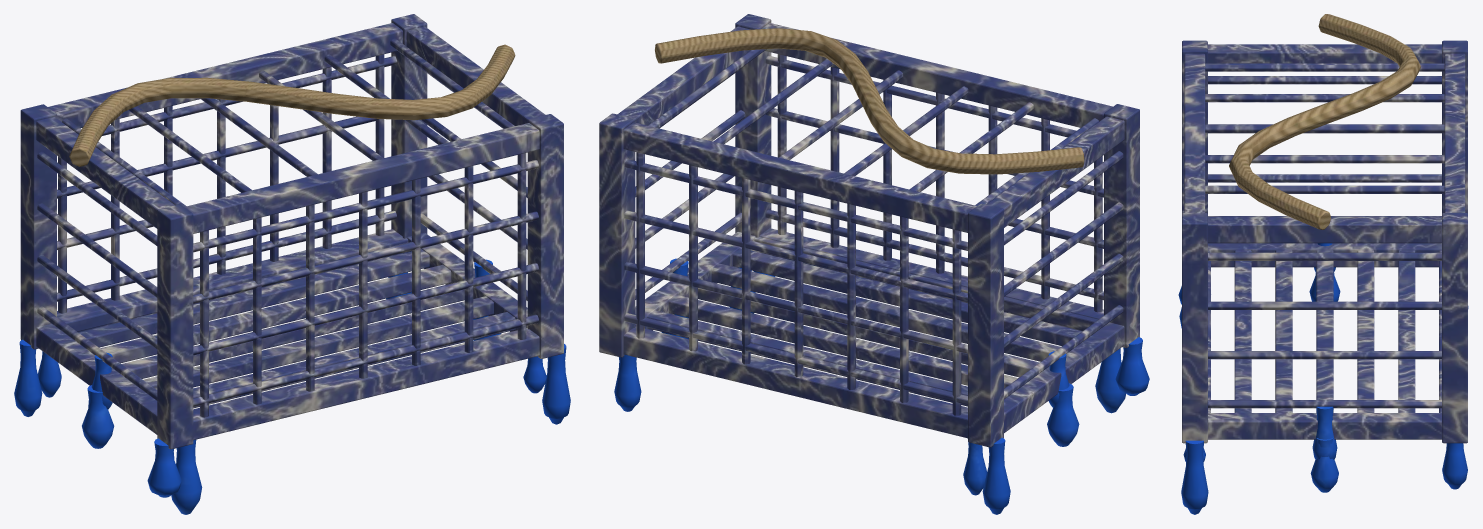
Rendered from lobster_trap.glb.
The picture shows the model from 3 angles, left to right: view 1: azimuth 30°, elevation 25°; view 2: azimuth 150°, elevation 25°; view 3: azimuth 270°, elevation 25°; orthographic projection. The views are drawn at different scales.
Visible parts, largest first — view 1: lobster_trap; view 2: lobster_trap; view 3: lobster_trap.
Part boxes in pixels (<box>): lobster_trap: <box>14,14,570,514</box>; lobster_trap: <box>599,14,1149,514</box>; lobster_trap: <box>1178,14,1468,514</box>.
Size of the model in its own units: 0.9875 by 0.72 by 0.5936.
1 material, 1 textured.
